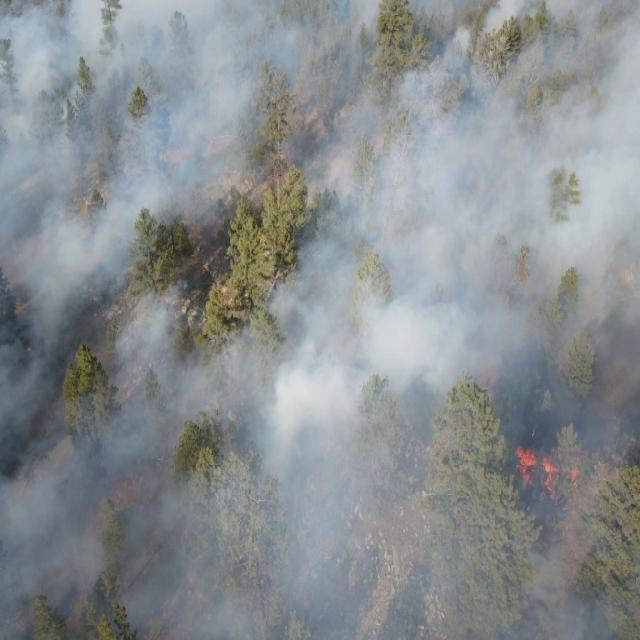fire: (514, 442, 592, 507), (22, 341, 37, 358), (16, 360, 30, 375)
smoke: (0, 0, 639, 640)
